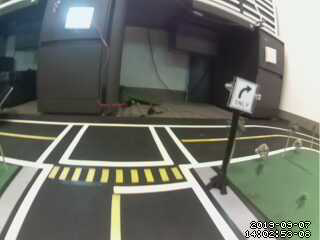Right_only_sign: (233, 76, 255, 118)
